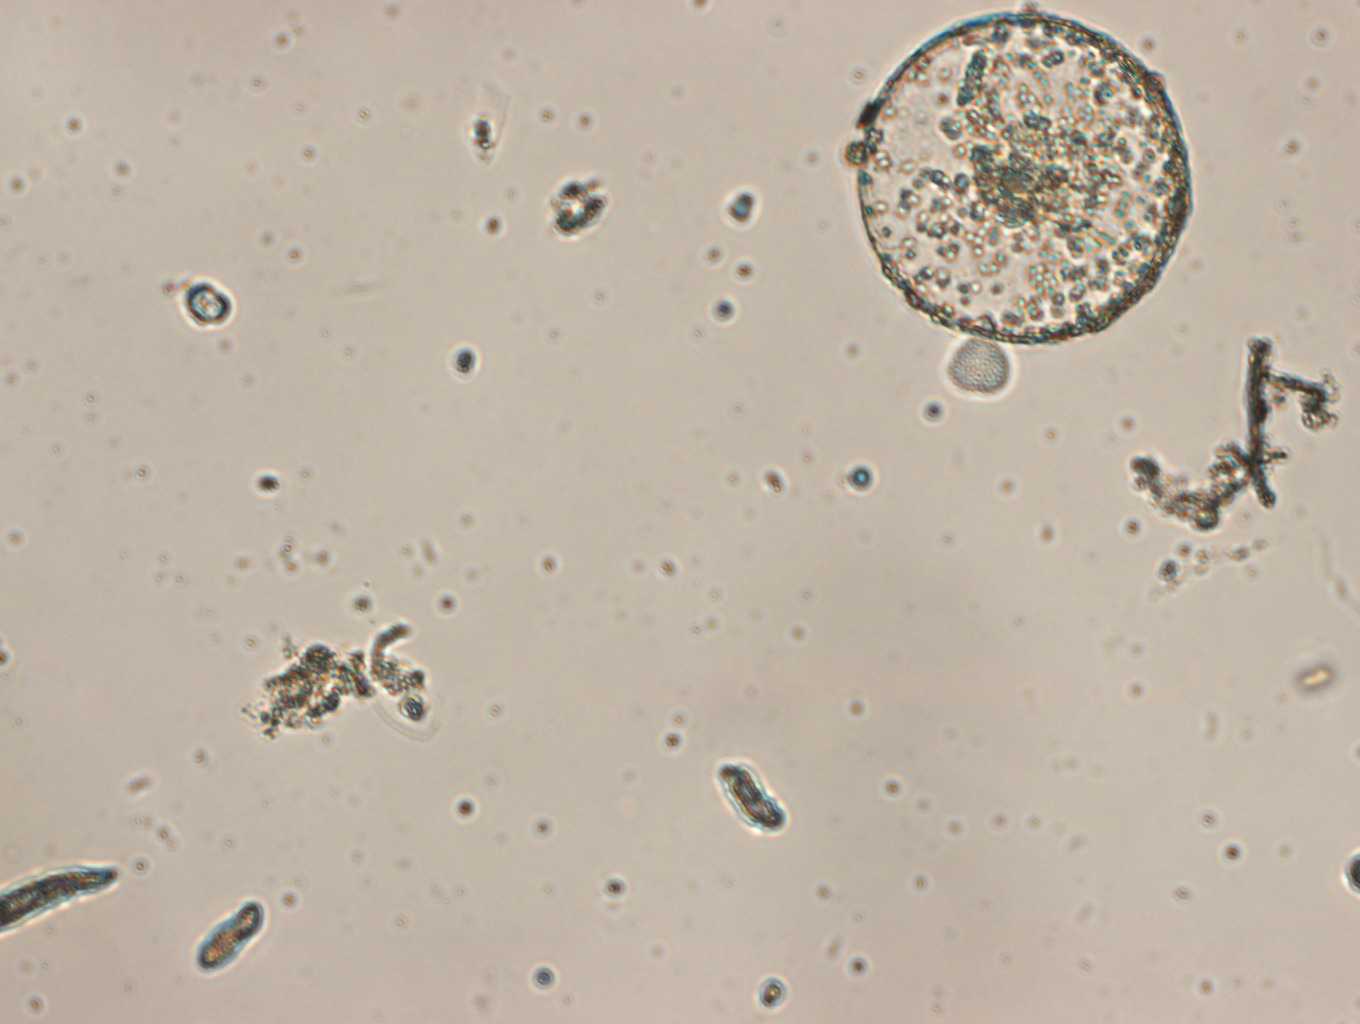coscinodiscus: (857, 5, 1190, 345)
